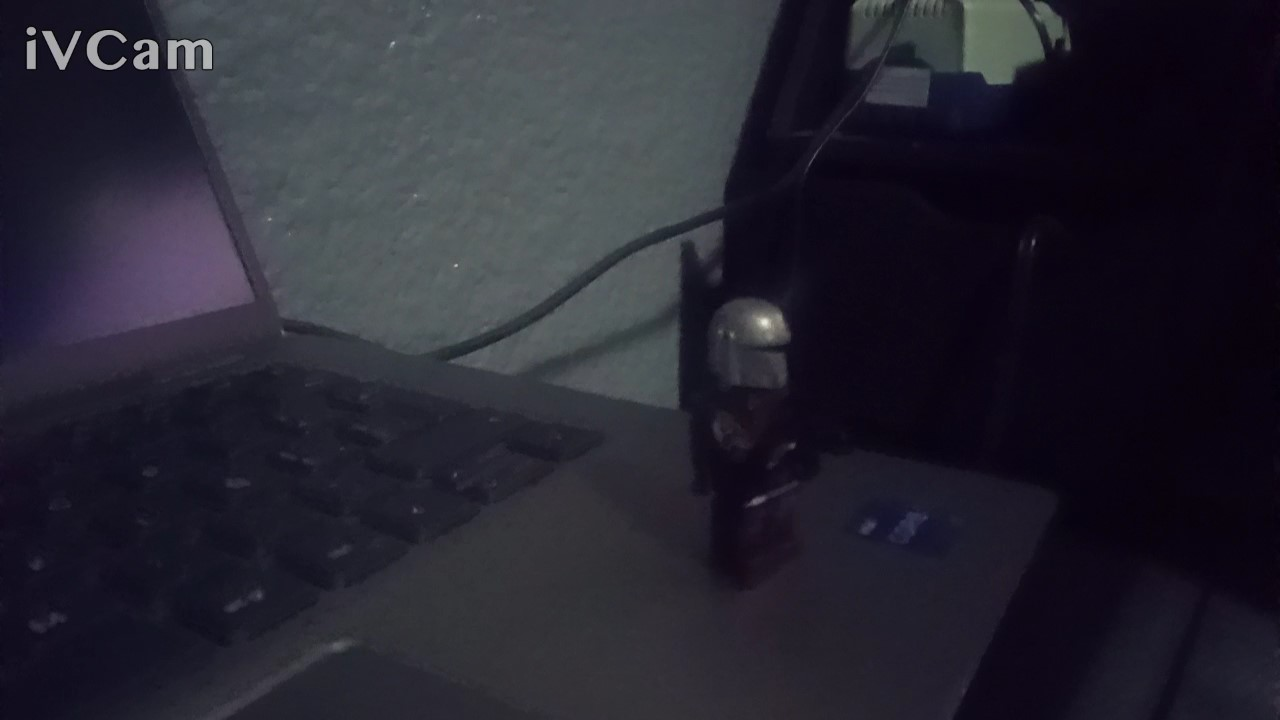mandalorian: (677, 288, 826, 608)
